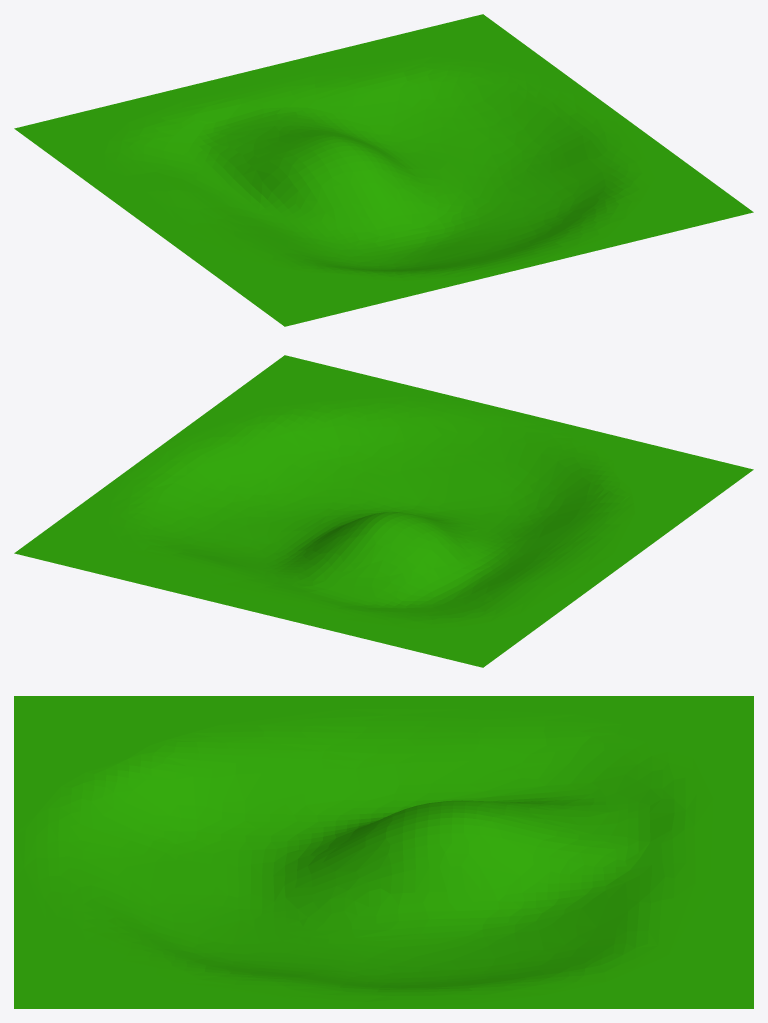
File: Terrain - Lv1.fbx
3 views of the same model, one above another, from view 1: azimuth 30°, elevation 25°; view 2: azimuth 150°, elevation 25°; view 3: azimuth 270°, elevation 25° (orthographic). The views are drawn at different scales.
Parts seen in each view (by area): view 1: Terrain - Lv1; view 2: Terrain - Lv1; view 3: Terrain - Lv1.
Boxes of the visible parts, x1=… form: Terrain - Lv1: x1=14, y1=14, x2=753, y2=326; Terrain - Lv1: x1=14, y1=355, x2=753, y2=667; Terrain - Lv1: x1=14, y1=696, x2=753, y2=1008.
Size of the model in its own units: 20000 by 2000 by 20000.
